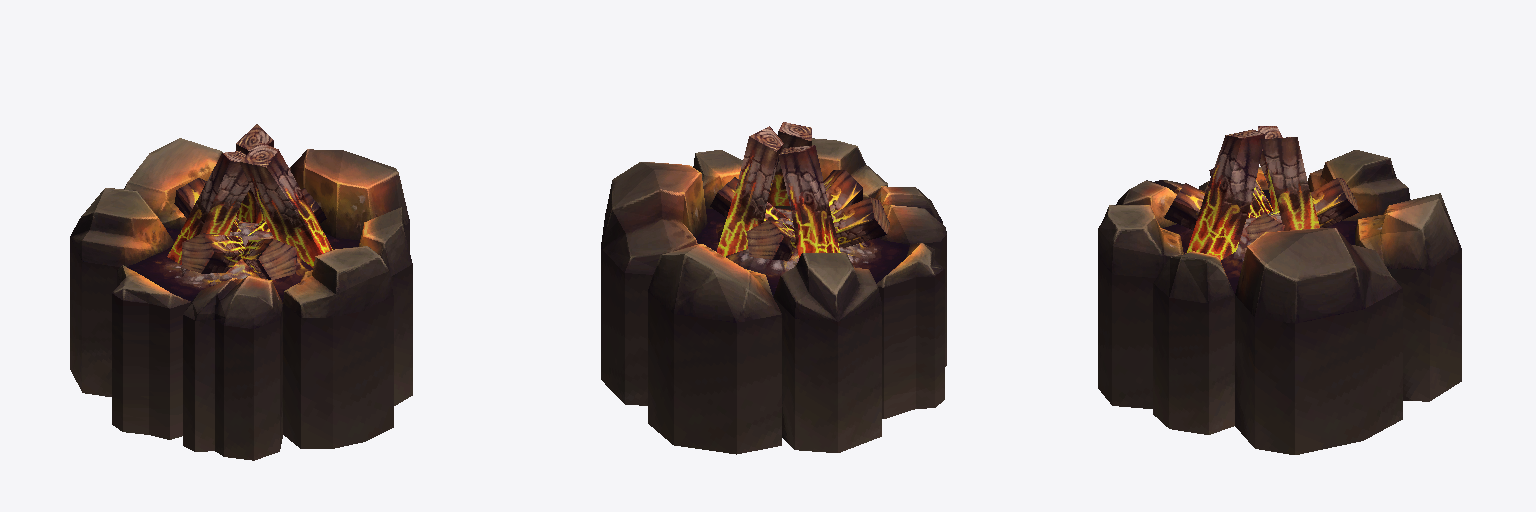
3 views of the same model, side by side, from view 1: azimuth 30°, elevation 25°; view 2: azimuth 150°, elevation 25°; view 3: azimuth 270°, elevation 25° (orthographic).
Parts seen in each view (by area): view 1: world/expansion04/doodads/pandaren/campfire/pa_campfire_01.m2_G; view 2: world/expansion04/doodads/pandaren/campfire/pa_campfire_01.m2_G; view 3: world/expansion04/doodads/pandaren/campfire/pa_campfire_01.m2_G.
Part boxes in pixels (x1,y1,x2,y2): world/expansion04/doodads/pandaren/campfire/pa_campfire_01.m2_G: (70, 124, 412, 460); world/expansion04/doodads/pandaren/campfire/pa_campfire_01.m2_G: (601, 122, 946, 454); world/expansion04/doodads/pandaren/campfire/pa_campfire_01.m2_G: (1098, 126, 1461, 454).
Bounding box in the file's own units: 2.09 × 1.59 × 2.12.
Materials: 1 (1 with a texture image).